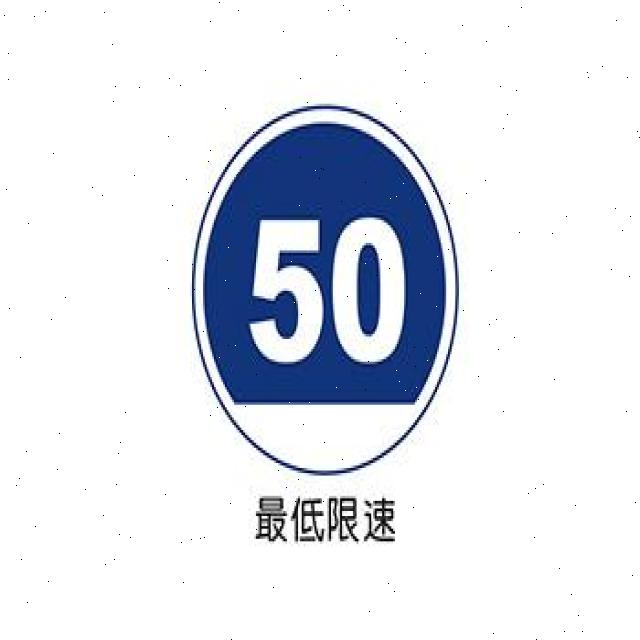speed limit 50: (191, 108, 460, 479)
